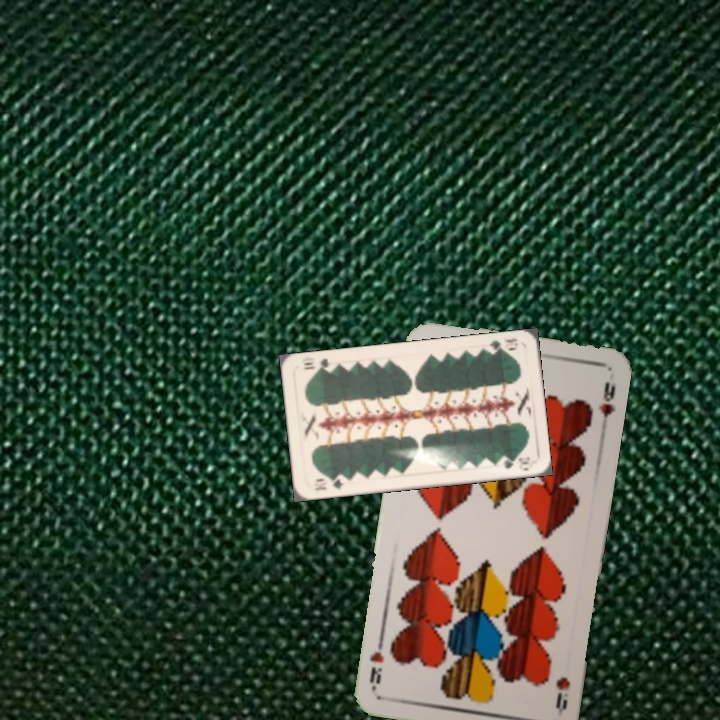G10: (485, 334, 520, 355), (311, 473, 345, 493)
H9: (552, 673, 573, 718)
